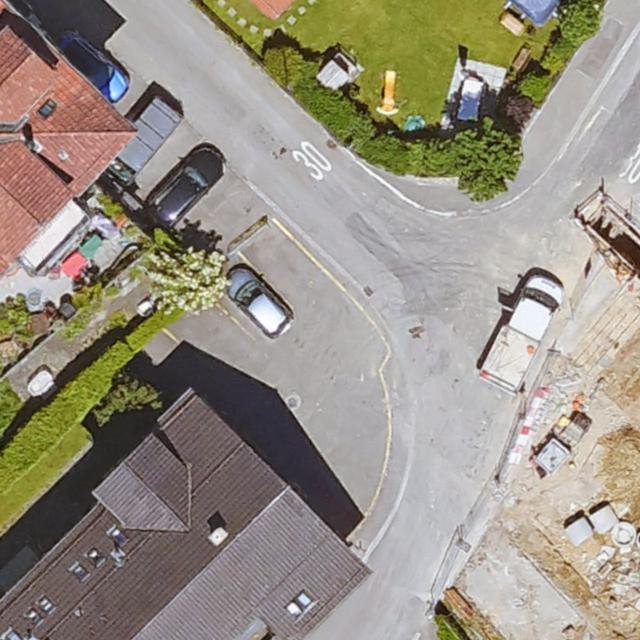tree: (147, 244, 228, 311), (452, 124, 521, 201), (96, 388, 163, 423)
